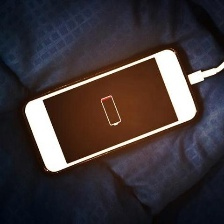phone: (17, 41, 205, 181)
